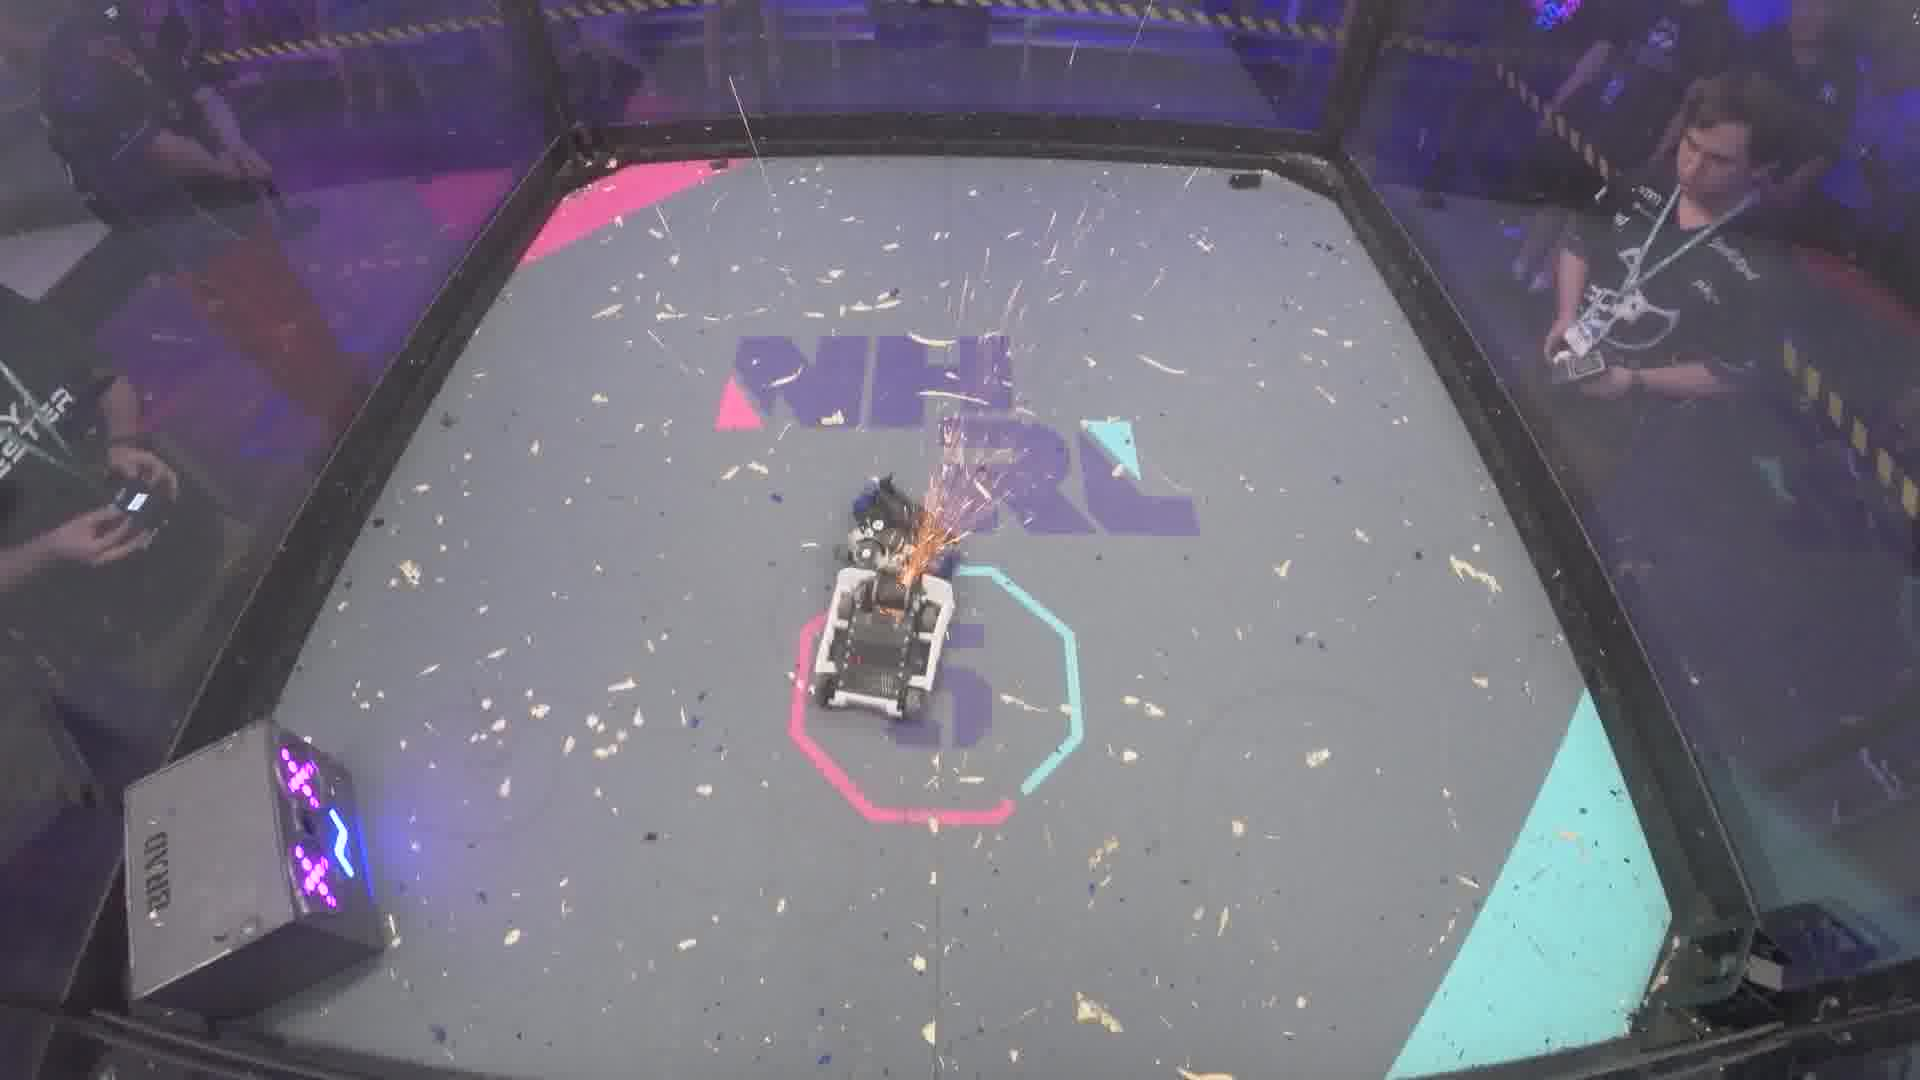combatbot: (807, 546, 959, 719), (810, 469, 961, 568)
debris: (1222, 170, 1266, 191)
housebot: (119, 715, 389, 1011)
